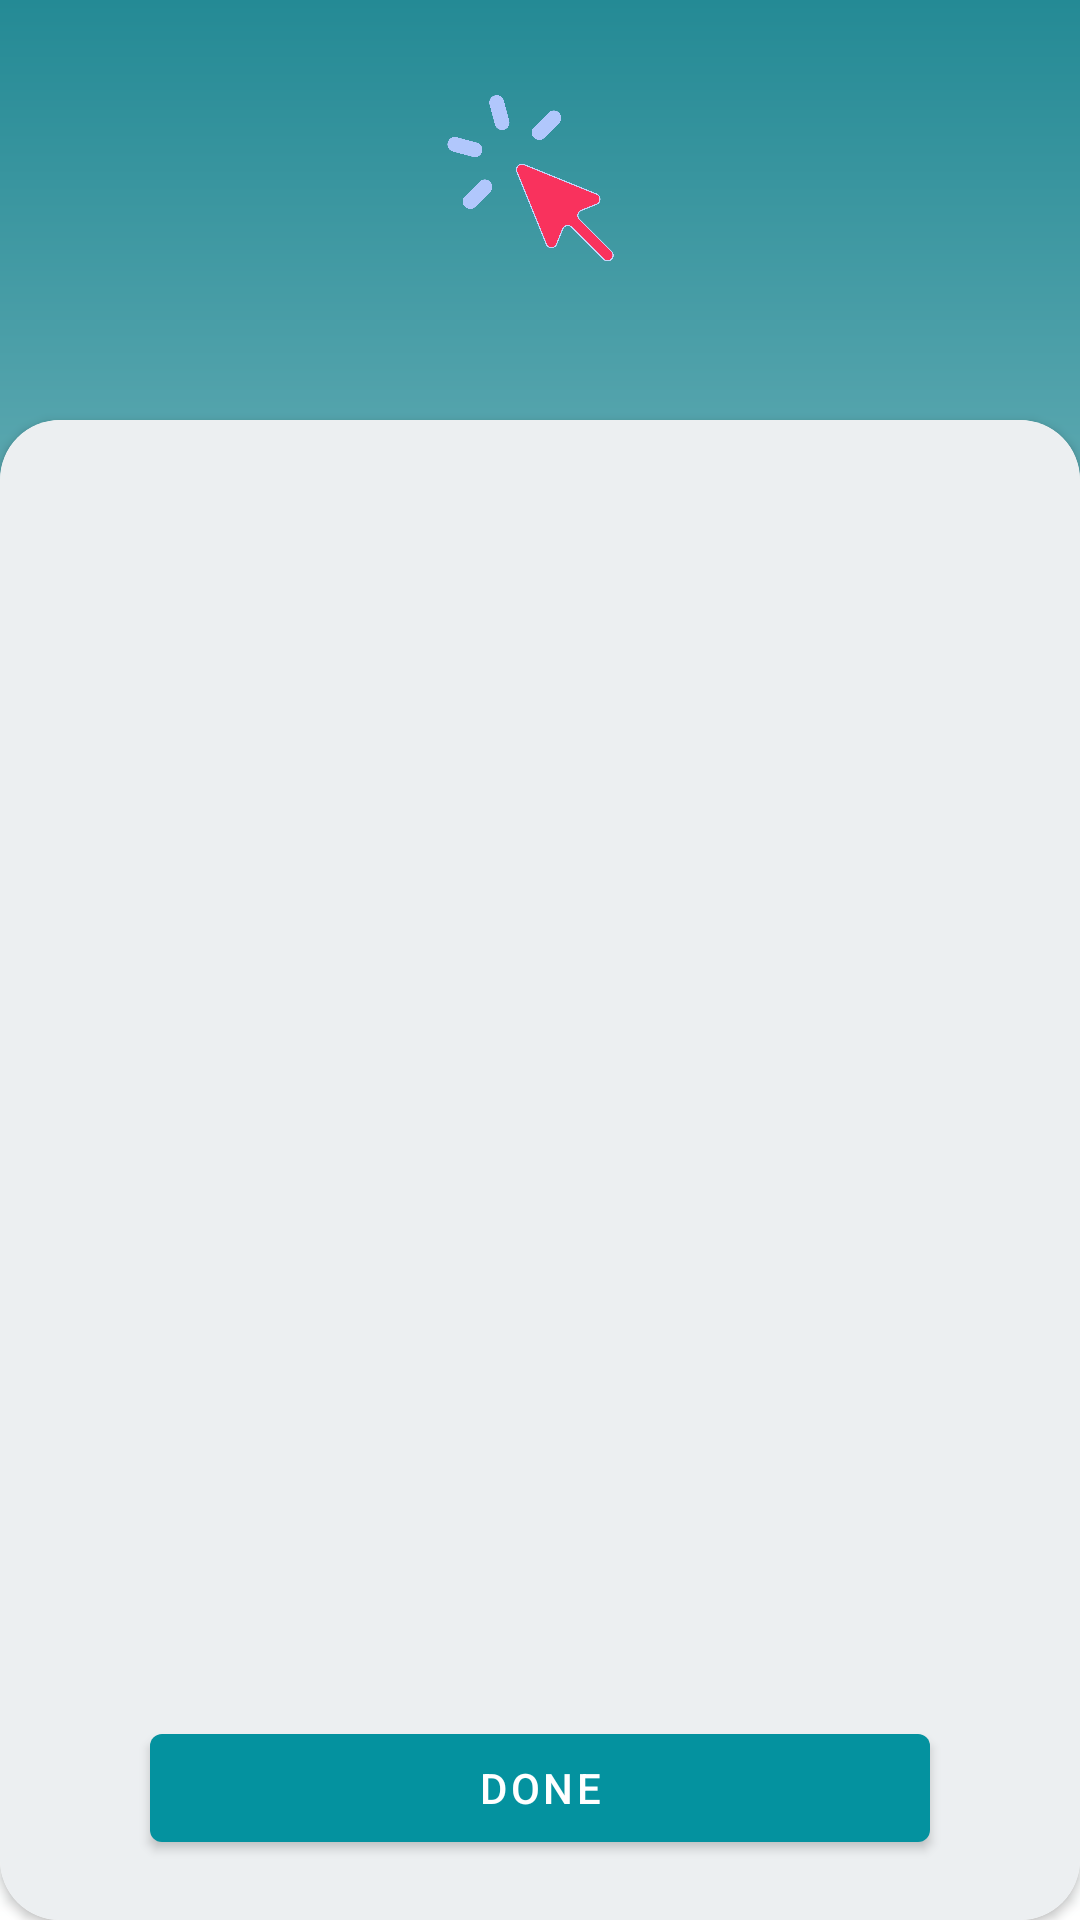

Icons on this 1080 x 1920 Android screen, each with the point to tap as (x=x, y=y):
sel: (x=540, y=195)
